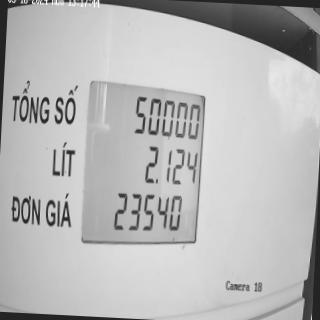screen: (78, 74, 209, 250)
